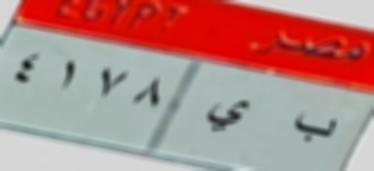1: (54, 51, 84, 90)
4: (12, 48, 42, 98)
7: (89, 67, 132, 102)
8: (130, 75, 170, 113)
baa: (282, 108, 347, 152)
yaa: (193, 97, 258, 139)
